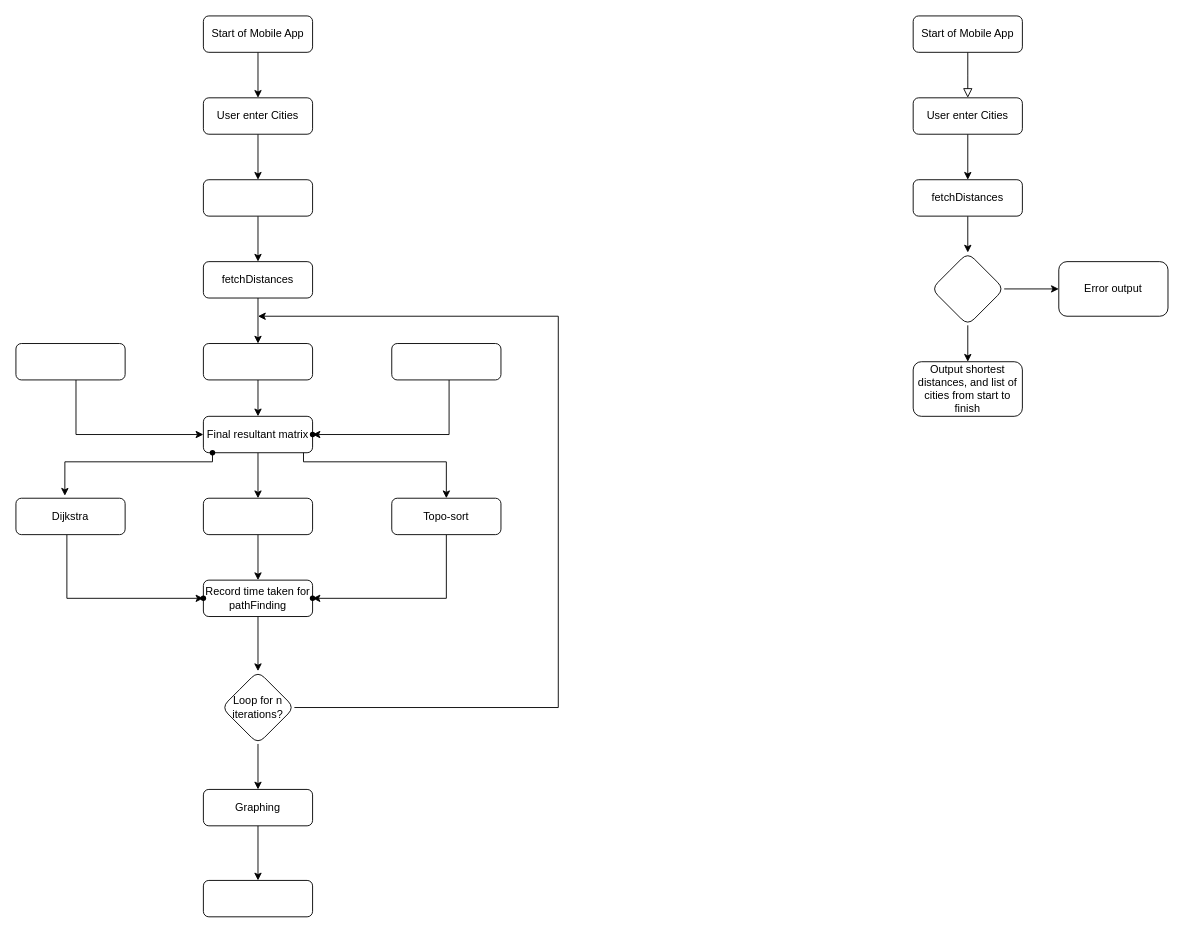
Some shapes in this 1184 by 933 pixel diagram are drawn without their labels. The centre of each missing label's shape, as x and y in pixels:
"Average distance between all cities" goes at (446,361).
"Bellman-Ford" goes at (257,516).
"Cannot fetch" goes at (967,288).
"Construction of Adjacency Matrix" goes at (257,361).
"End" goes at (257,898).
"Pre-processing String of Cities" goes at (257,197).
"Randomize probability matrix" goes at (70,361).
